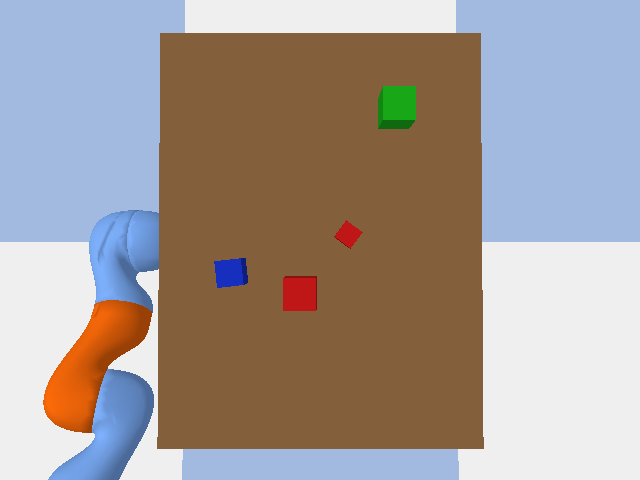blue_obj: (214, 258, 247, 287)
green_obj: (378, 86, 415, 128)
red_obj: (283, 276, 316, 310), (334, 220, 362, 248)
